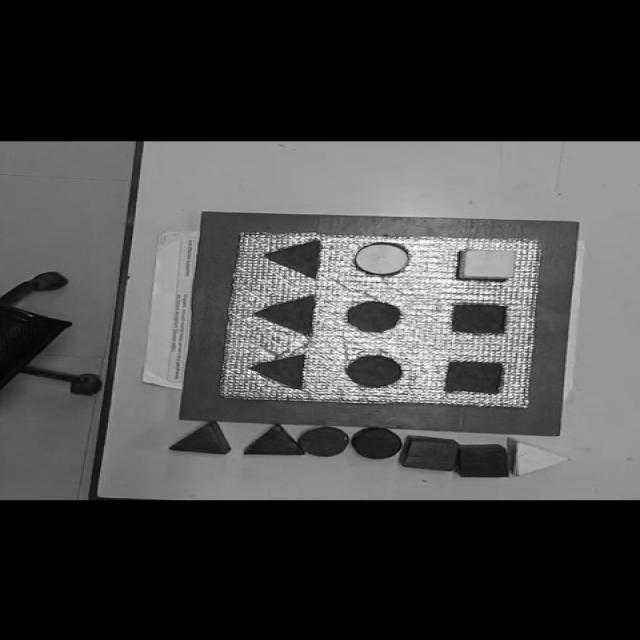bcircle: (351, 426, 402, 459)
bcube: (454, 443, 510, 478)
btriangle: (243, 424, 303, 456)
mtcircle: (346, 354, 402, 386), (346, 301, 402, 332)
mtcube: (443, 360, 506, 394), (450, 303, 509, 335)
mttriangle: (253, 294, 317, 335), (263, 238, 322, 278), (248, 353, 307, 390)
rcircle: (299, 426, 349, 456)
rcube: (400, 435, 460, 471)
rtriangle: (169, 422, 232, 454)
wb: (221, 230, 544, 406)
ycircle: (351, 241, 412, 276)
ycube: (456, 248, 518, 281)
ytriangle: (509, 437, 571, 477)
